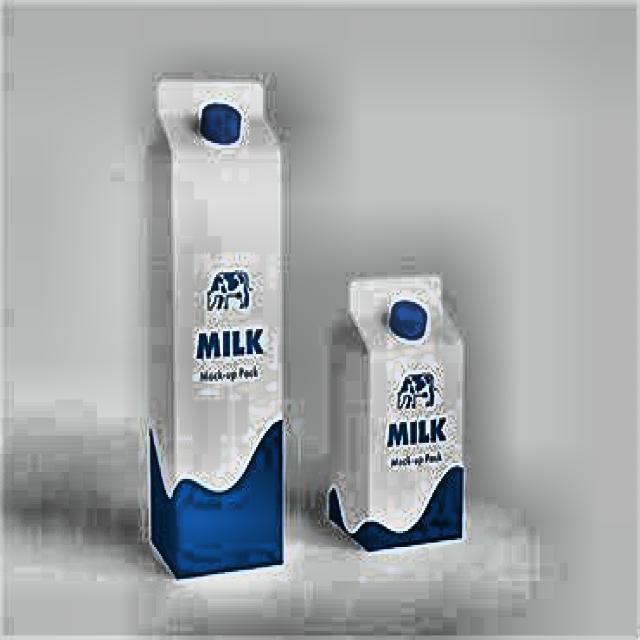cardboard: (147, 77, 284, 579), (325, 273, 465, 552)
